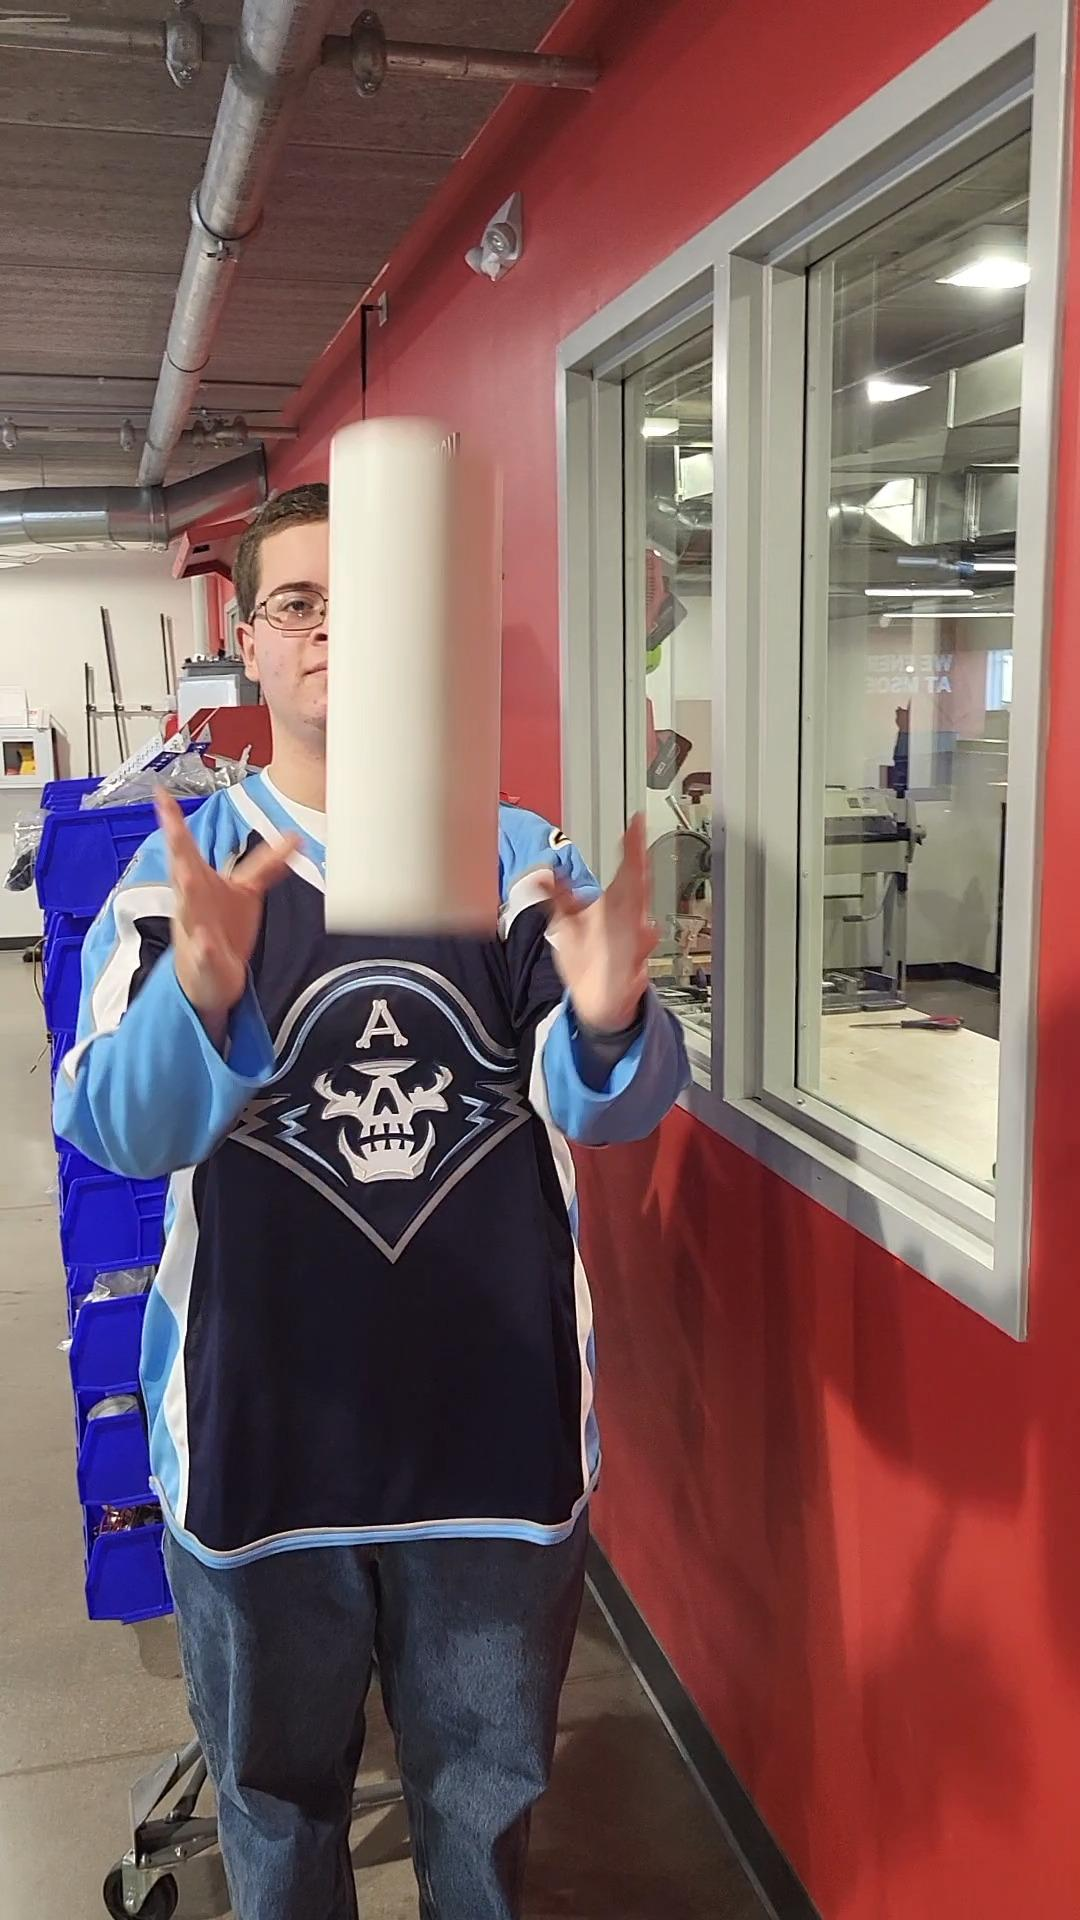coral: (310, 407, 517, 940)
